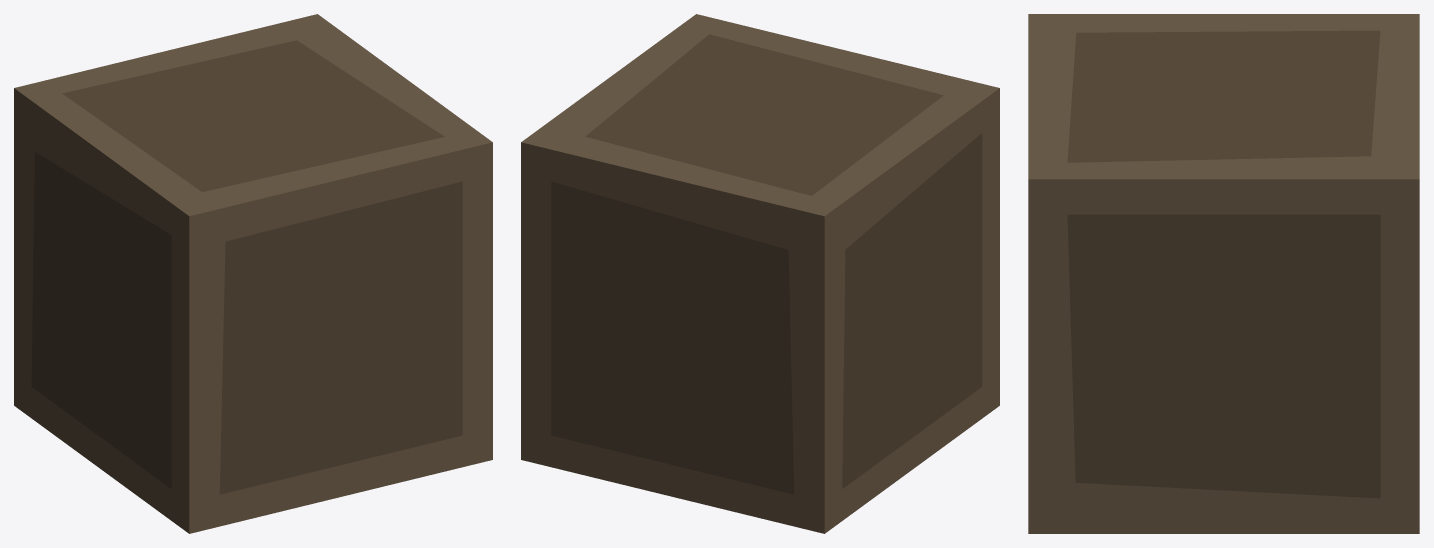
The model's file is crate.glb.
3 views of the same model, side by side, from view 1: azimuth 30°, elevation 25°; view 2: azimuth 150°, elevation 25°; view 3: azimuth 270°, elevation 25° (orthographic). The views are drawn at different scales.
Parts seen in each view (by area): view 1: SM_Prop_Generic_Crate_01; view 2: SM_Prop_Generic_Crate_01; view 3: SM_Prop_Generic_Crate_01.
Part boxes in pixels (left/top/right/bottom): SM_Prop_Generic_Crate_01: left=14, top=14, right=492, bottom=533; SM_Prop_Generic_Crate_01: left=521, top=14, right=999, bottom=533; SM_Prop_Generic_Crate_01: left=1028, top=14, right=1419, bottom=533.
Bounding box in the file's own units: 0.1667 × 0.1667 × 0.1667.
1 material, 1 textured.
